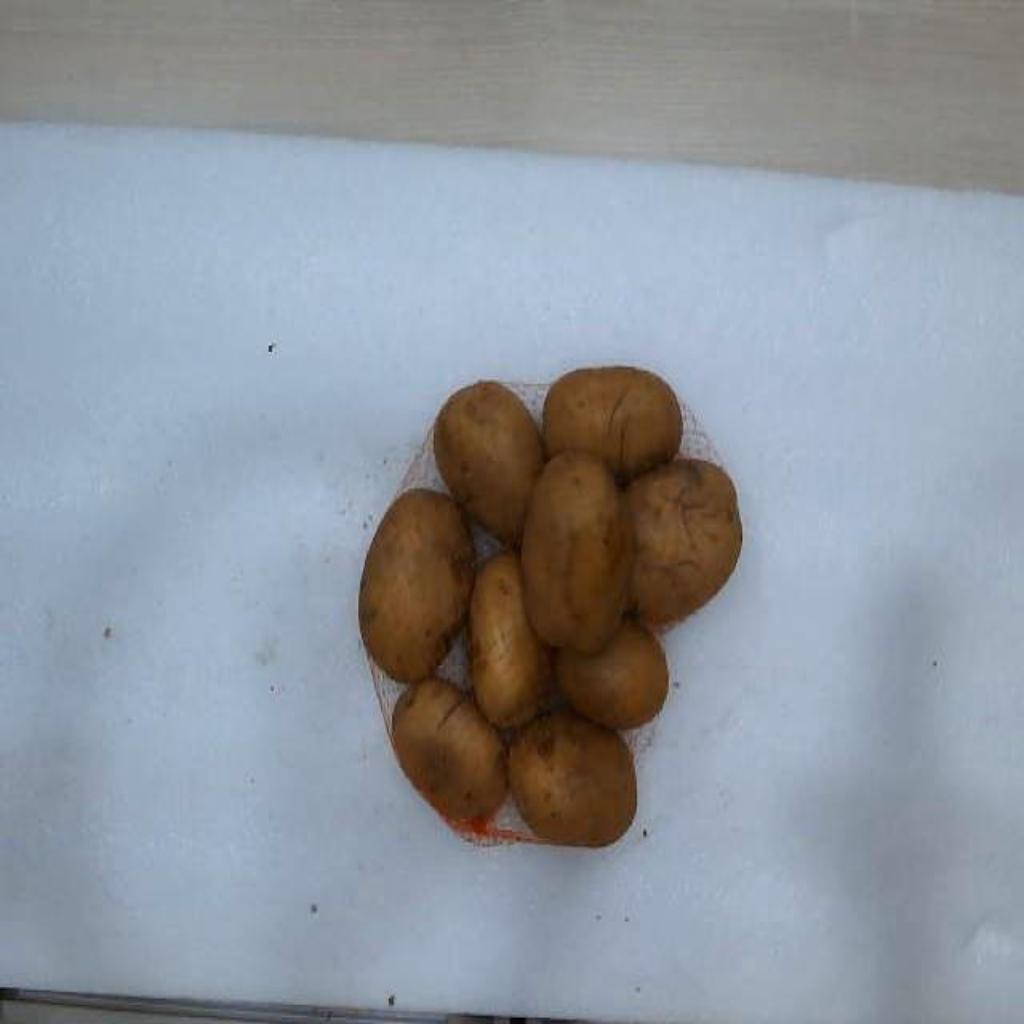potato: (358, 488, 474, 681), (522, 451, 632, 652), (626, 459, 740, 623), (434, 381, 542, 544), (508, 709, 636, 845), (542, 365, 682, 481), (392, 680, 504, 820), (470, 549, 552, 729), (558, 616, 668, 729)
